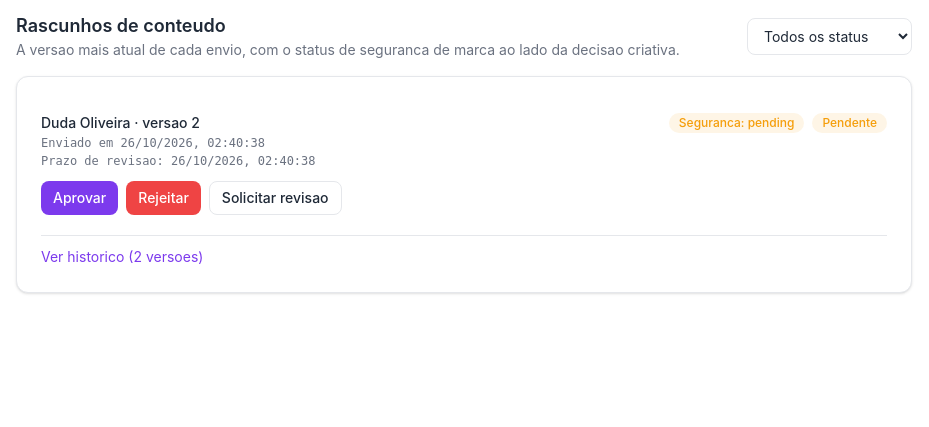
Test: ContentSubmissionsPage - US-19 › shows the current version by default and attributes each version its own reason on drill-down
Expected: the text "Duda Oliveira · versao 2" is shown, 41,114 -> 200,131
Expected: the text "Duda Oliveira · versao 1" is not shown
Click the button "Ver historico (2 versoes)".
click(122, 257)  # box 41,247 -> 203,267
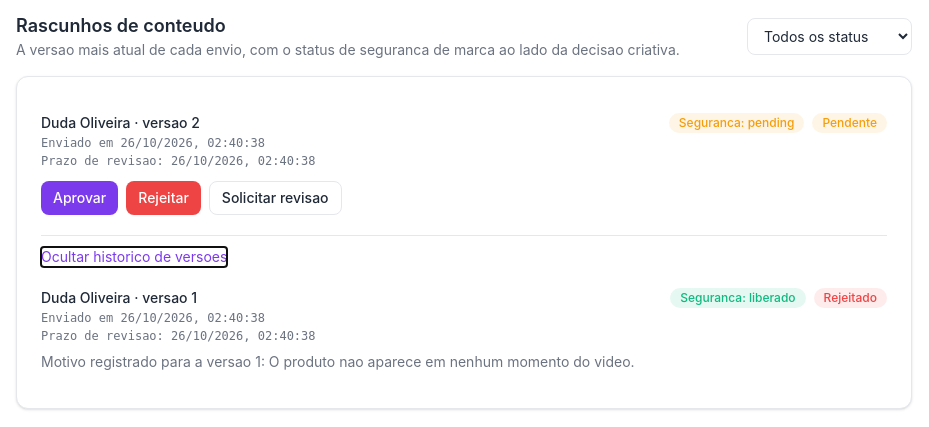
Expected: the text "Duda Oliveira · versao 1" is shown, 41,289 -> 197,306
Expected: the text "Motivo registrado para a versao 1: O produto nao aparece em nenhum momento do video." is shown, 41,353 -> 635,370
